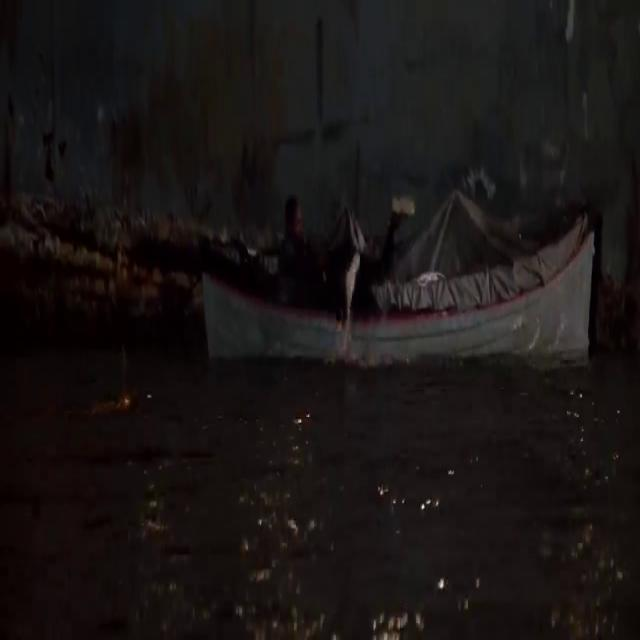Boat: (164, 205, 634, 402)
